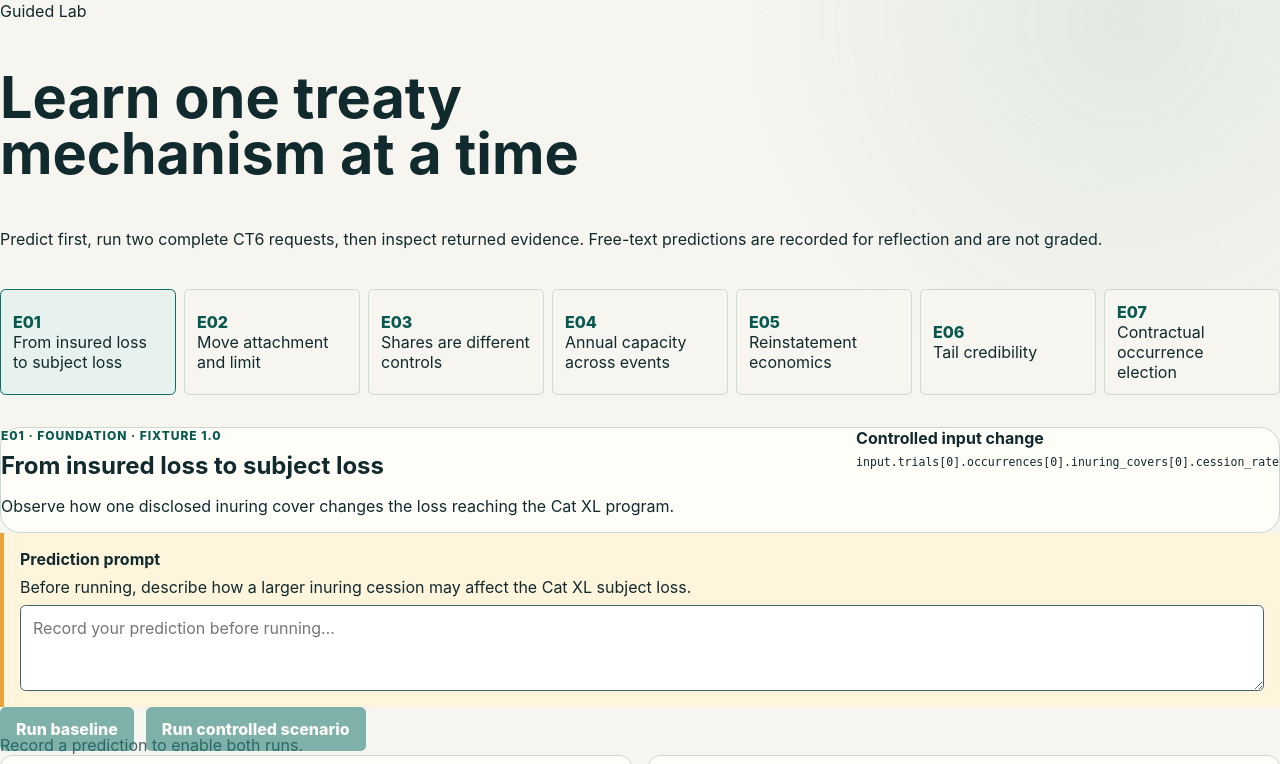
it: Guided Lab workflow › runs E07 through the hours route and retains candidate evidence paths
Click the button "E07 Contractual occurrence election".
click(1192, 342)  # box [1104,290,1279,396]
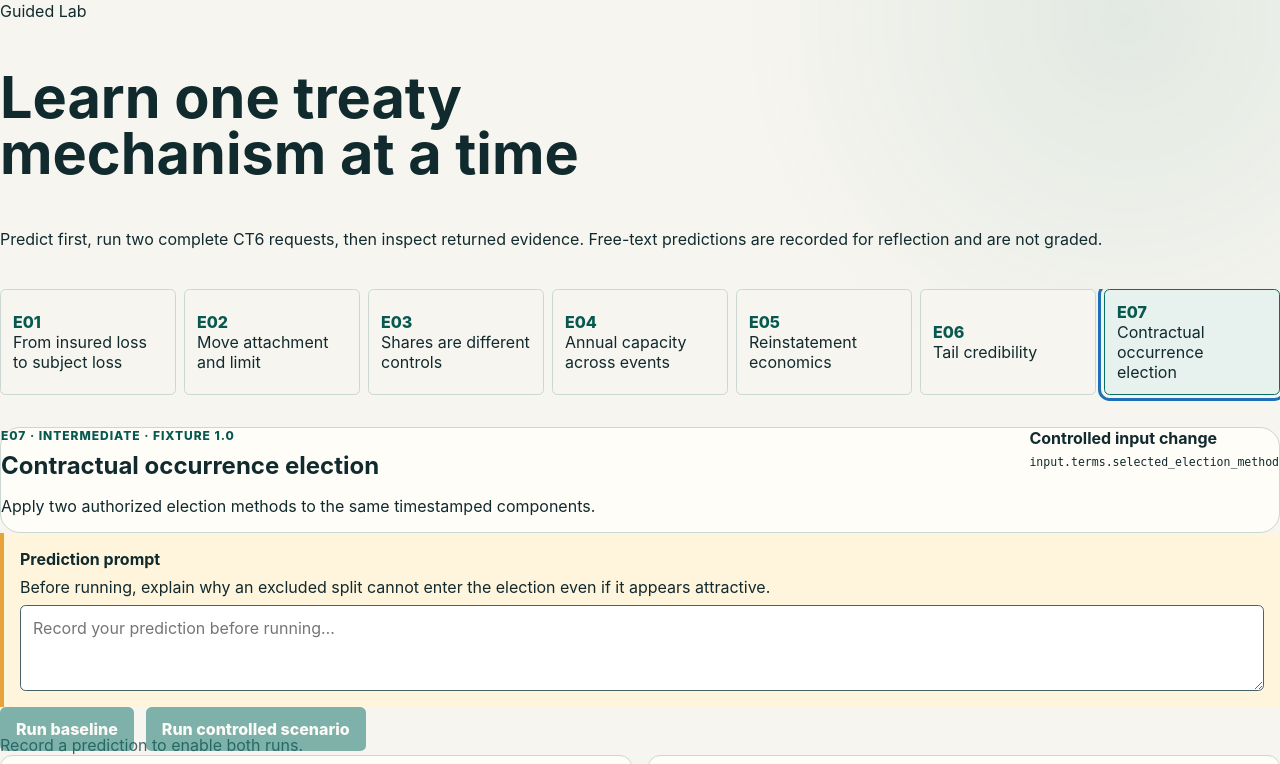
Type "Validity must be checked before election." into the text box labelled "Prediction prompt".
click(642, 648); type("Validity must be checked before election.")  # box [20,606,1264,692]
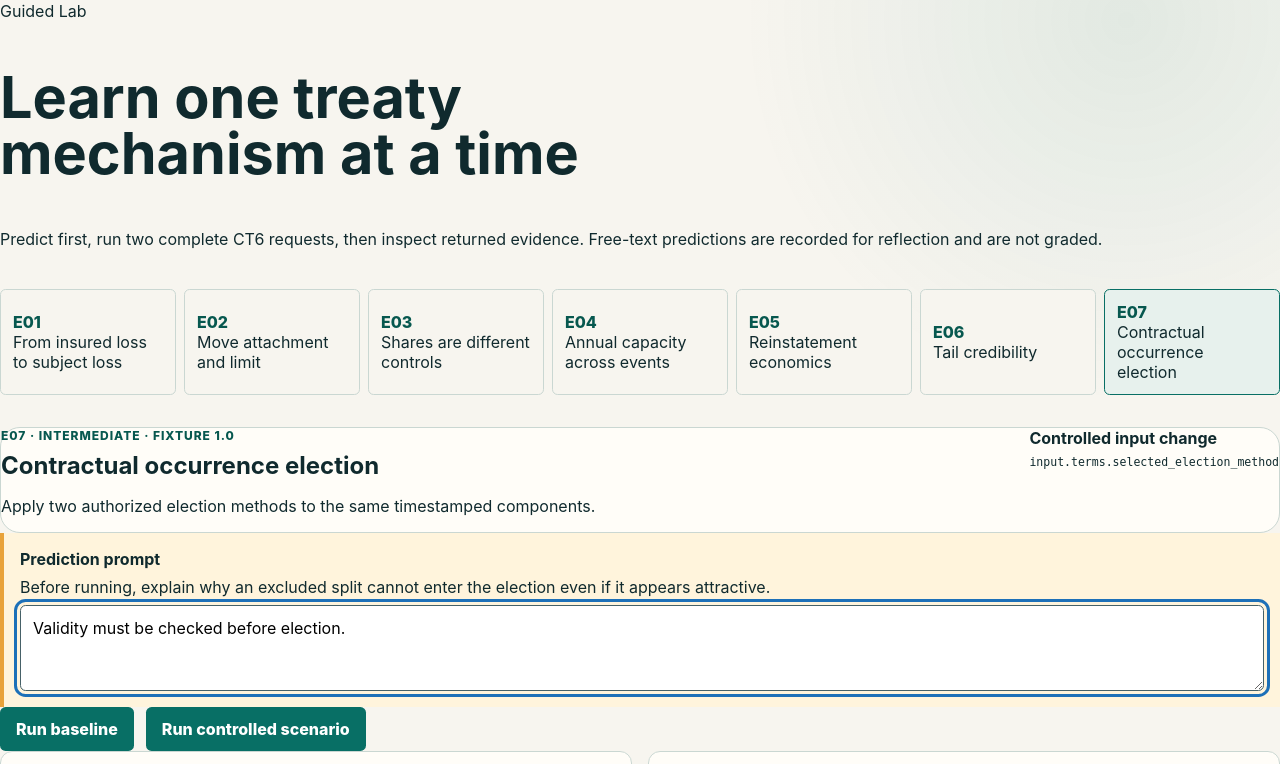
Click the button "Run baseline".
click(67, 730)  # box [0,708,134,752]
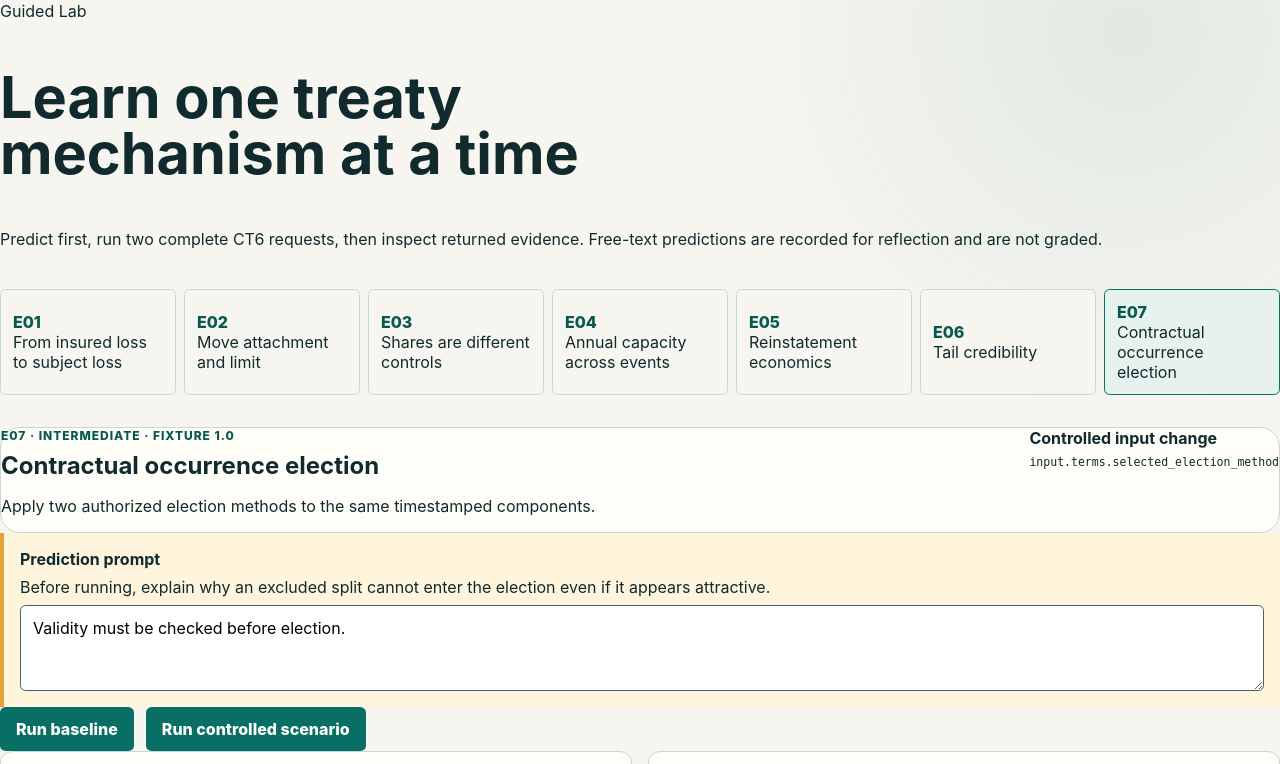
Click the button "Run controlled scenario".
click(256, 730)  # box [146,708,366,752]
(page scrolled)
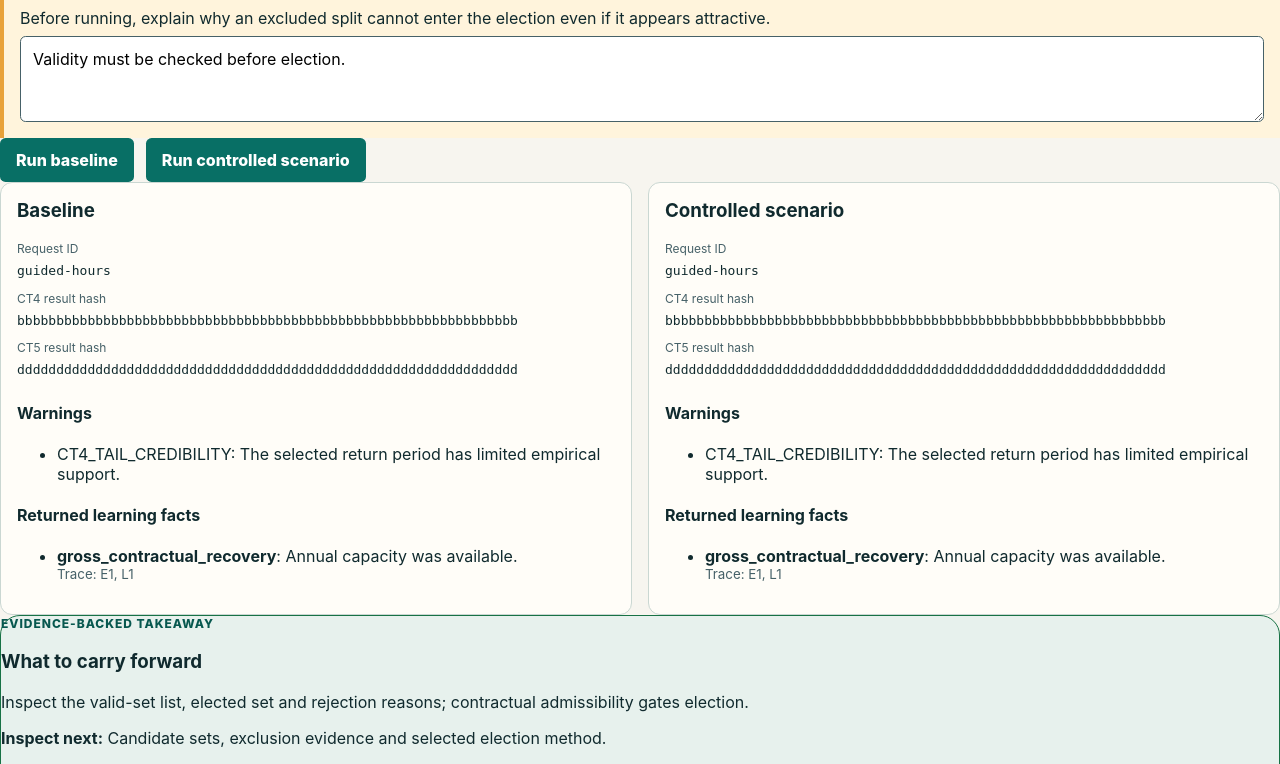
Now the text "contractual admissibility gates election" is shown, box [1,692,749,712]
